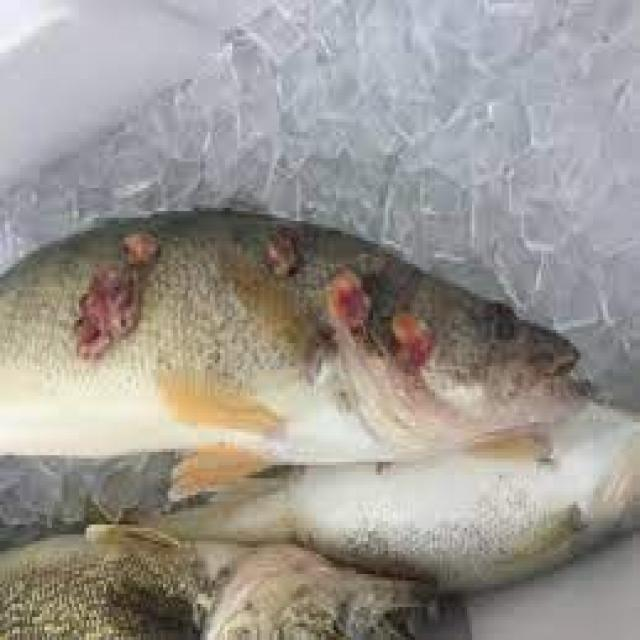EUS Disease: (1, 238, 640, 640), (39, 227, 496, 383)
